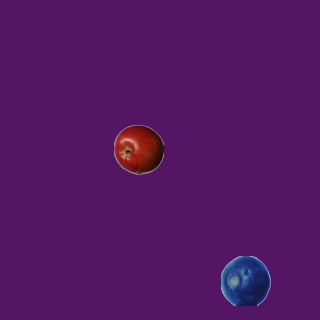Apple Braeburn: (113, 124, 163, 174)
Huckleberry: (220, 255, 270, 305)
